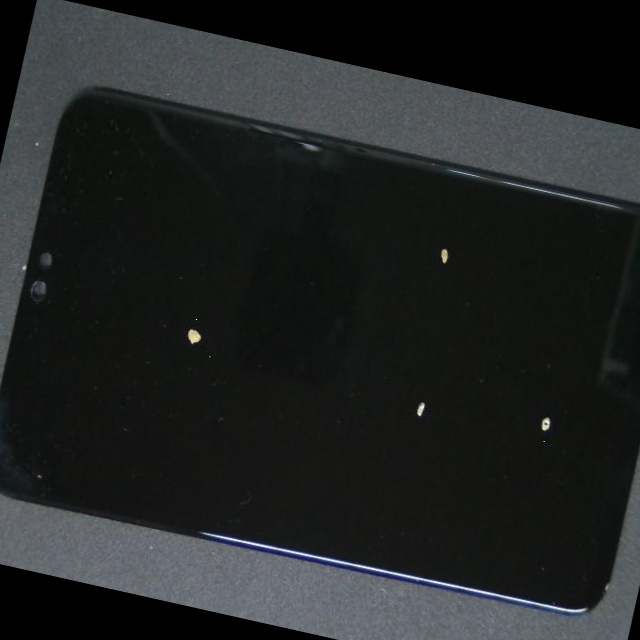stain: (137, 172, 640, 612), (217, 203, 640, 592), (208, 105, 640, 364), (43, 164, 315, 502)
